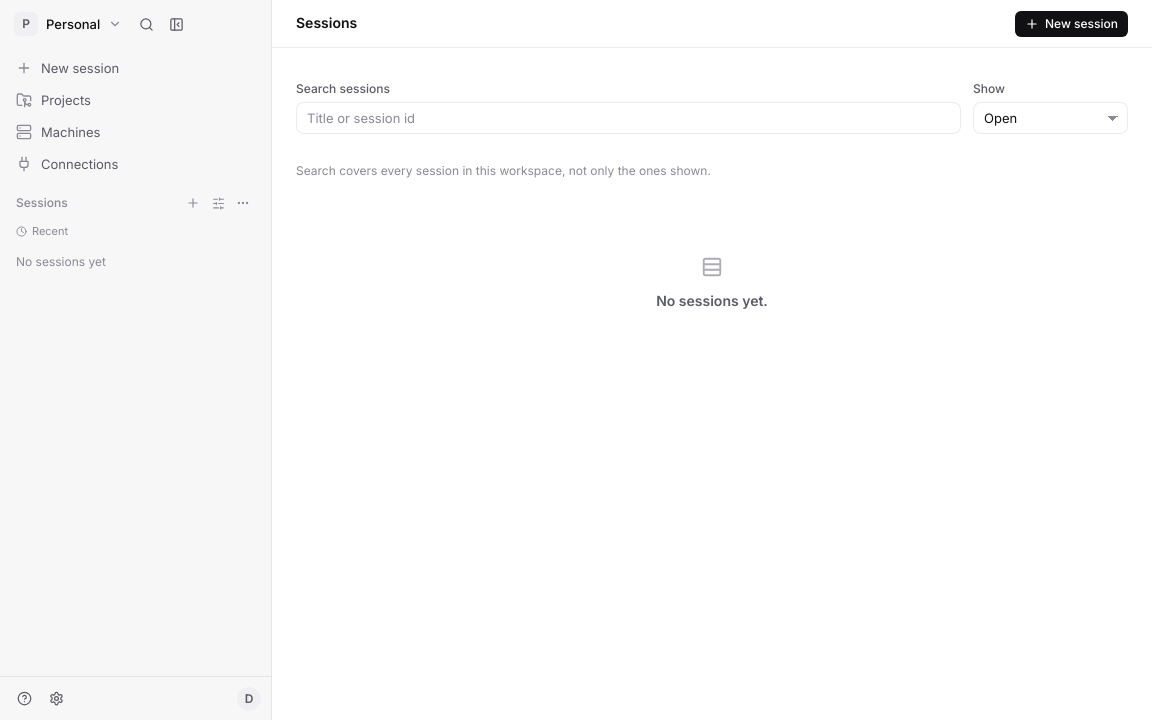
it: restored auth and shell interactions › keeps navigation, theme persistence and logout working
The image size is (1152, 720).
Expected: the number of navigation bars is 1, [16,60,119,172]
Click the link named "Settings": (56, 698) [48,691,64,706]
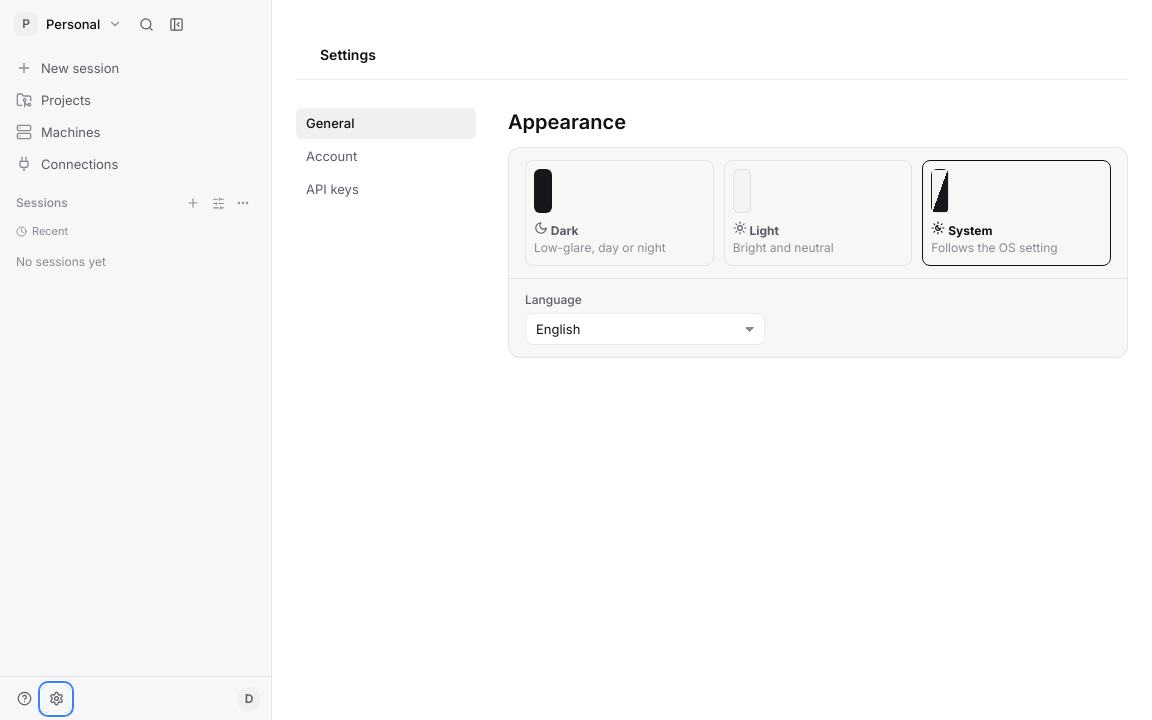
Expected: the heading "Settings" is shown, [320,45,376,66]
Note: Theme is chosen on the General tab via radio cards.
Click the radio button labelled "Light": (818, 213) [724,160,912,266]
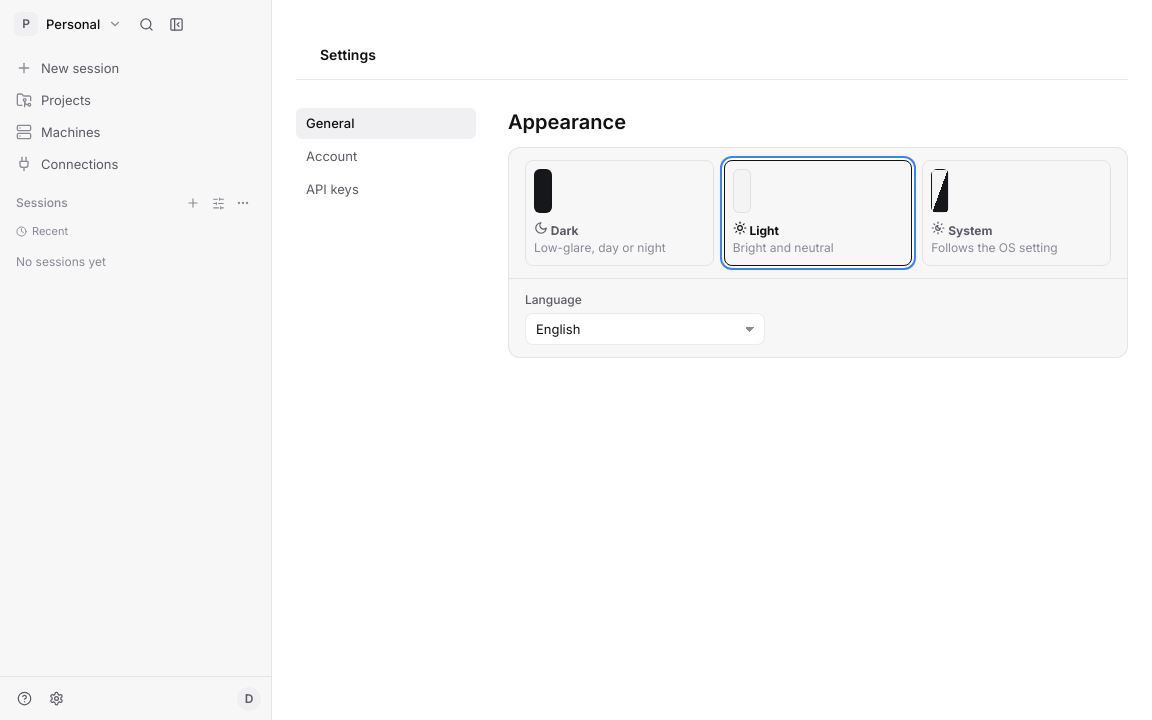
Click the button named "Account": (249, 698) [237,686,261,710]
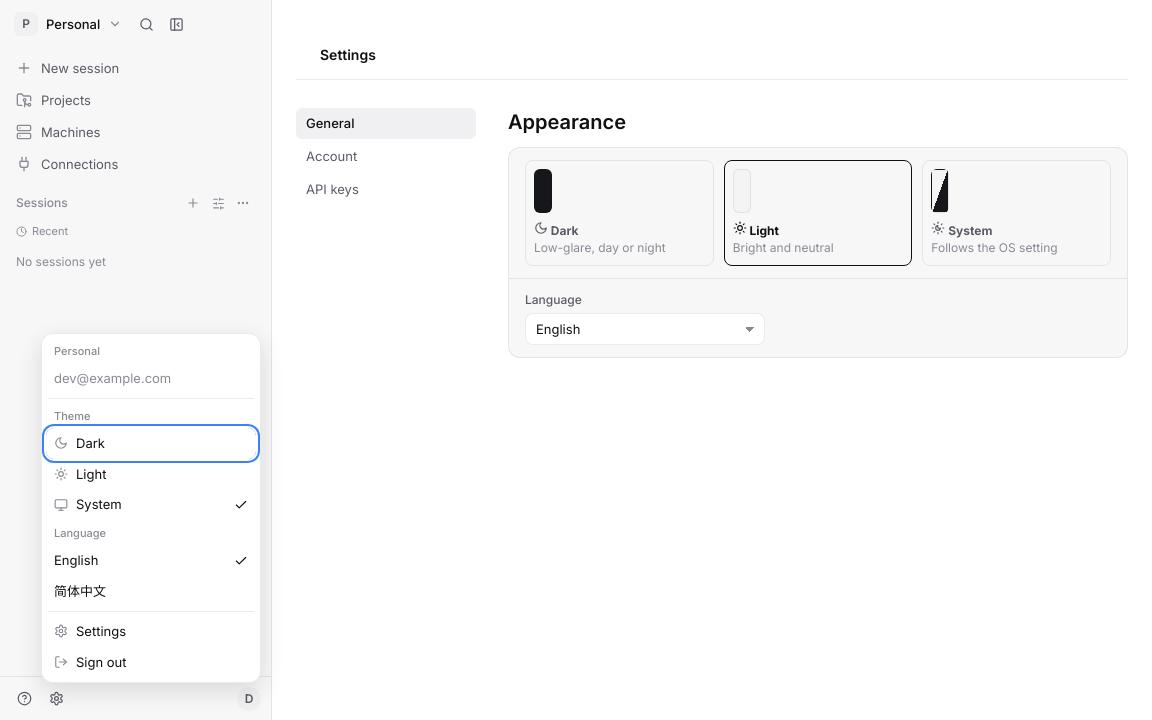
Click the menu item "Sign out": (151, 662) [46,647,256,678]
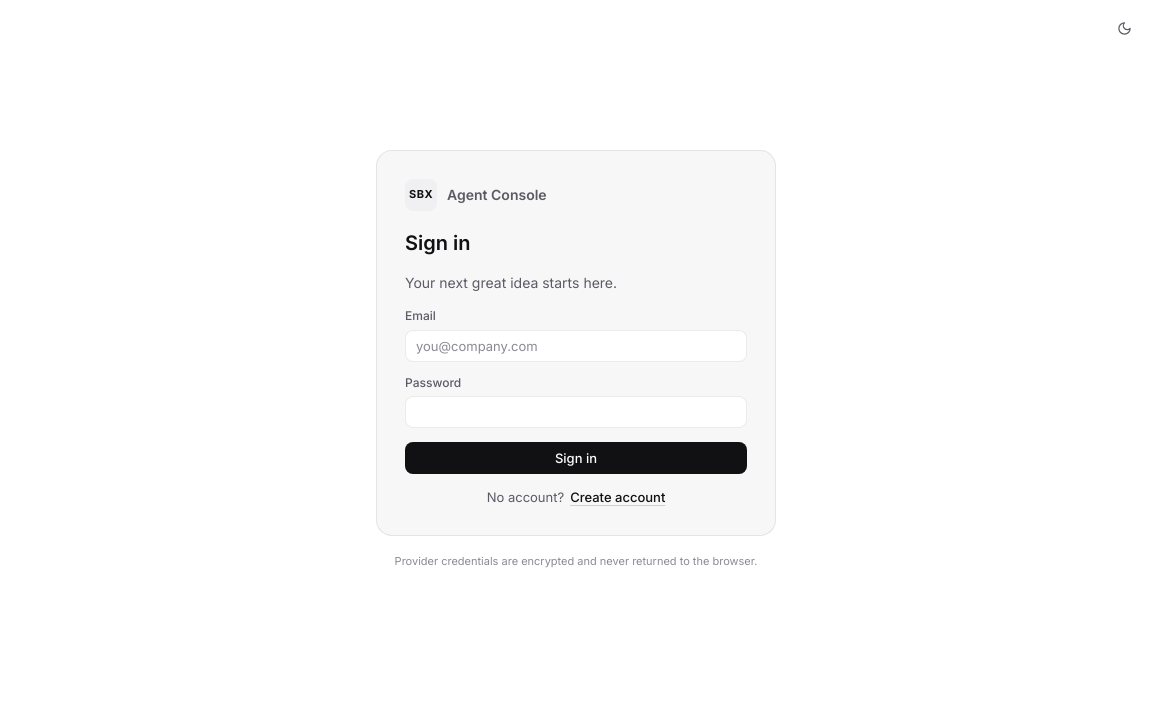
Expected: the heading "Sign in" is shown, [405,231,470,255]
